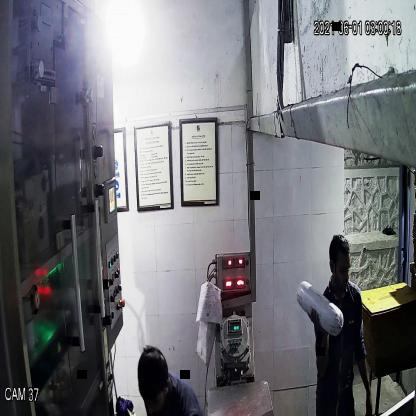no_goggles: (328, 258, 353, 282)
